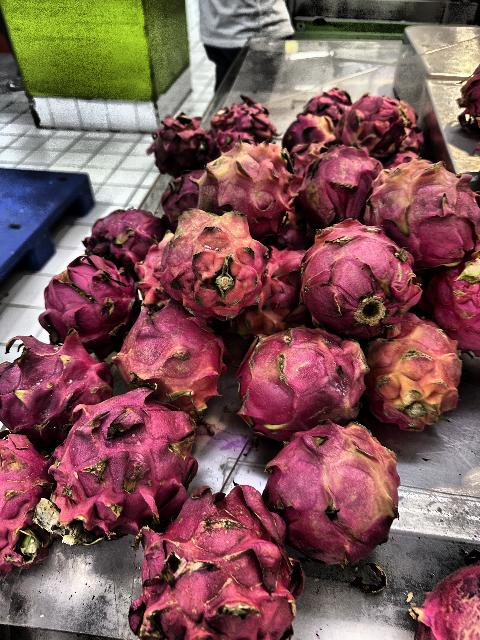buah-naga-belum-matang: (270, 420, 410, 562), (164, 206, 272, 316), (364, 318, 472, 422), (366, 164, 480, 260), (195, 140, 295, 232), (282, 115, 332, 143)
buah-naga-matang: (140, 484, 306, 640), (51, 393, 197, 535), (300, 216, 422, 332), (236, 326, 372, 428), (122, 289, 226, 409), (0, 329, 114, 433), (34, 255, 146, 352), (0, 432, 56, 572), (300, 142, 380, 220), (80, 214, 162, 270), (336, 92, 410, 154), (436, 257, 480, 345), (210, 98, 280, 140), (157, 163, 205, 224), (152, 116, 202, 170), (302, 85, 348, 119)
